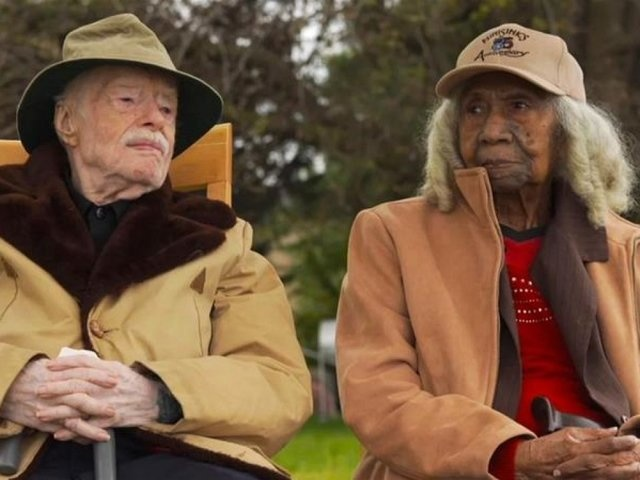without_mask: (49, 60, 189, 197), (453, 67, 578, 193)
